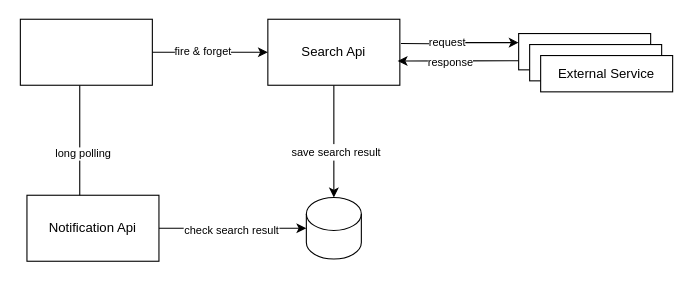
The diagram is 692 pixels wide and 281 high, and some of its shapes have lost their labels. Each missing label, with the box of its shape:
db: (305, 196, 361, 259)
Frontend: (19, 18, 152, 85)
